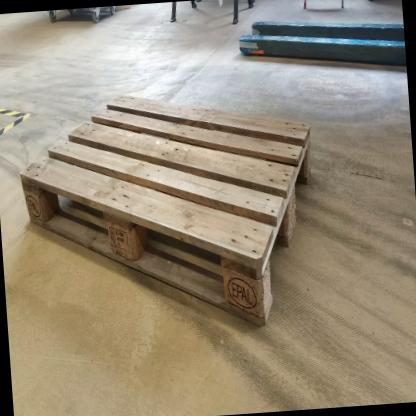BoxFace: (16, 91, 314, 339)
